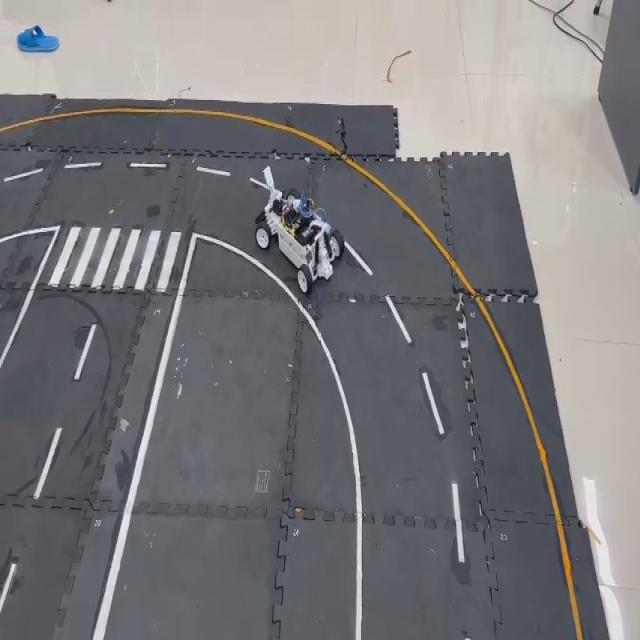SiCo-CAR: (249, 162, 345, 294)
